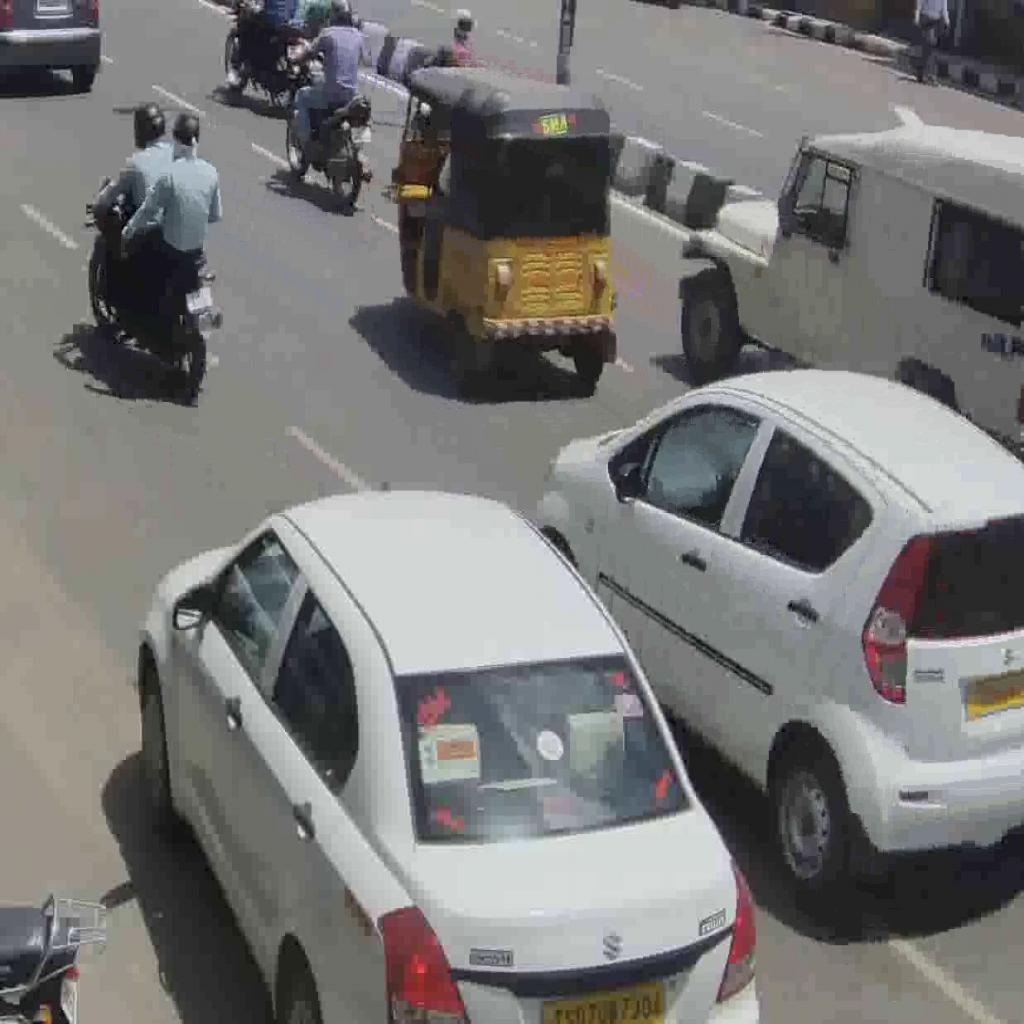helmet: (86, 172, 226, 404), (285, 49, 375, 207)
